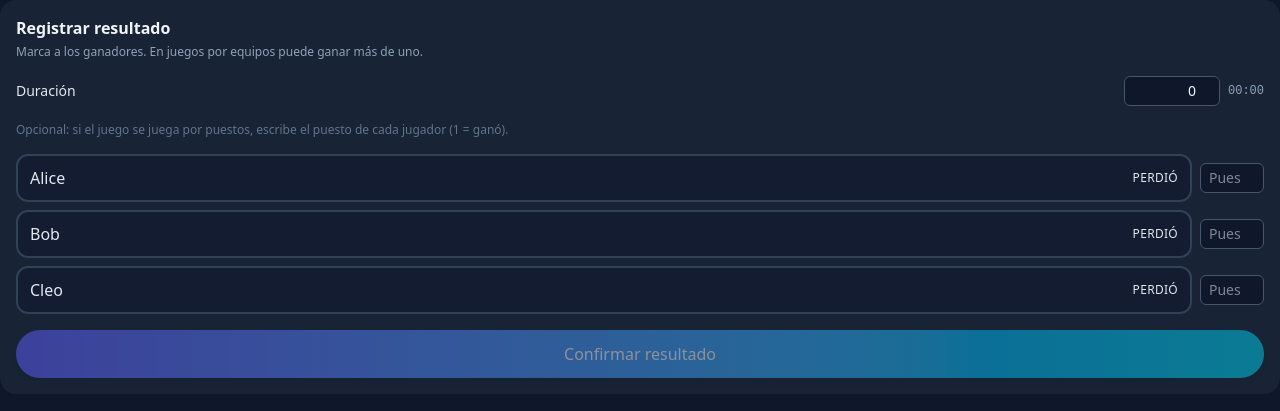
Test: <MatchResultSheet /> › confirm button is disabled until at least one winner is marked
The image size is (1280, 411).
expect the button with test id "confirm" is disabled: met, box [16,330,1264,378]
Click the checkbox with test id "winner-p1" at (48, 178), box [16,154,1192,202]
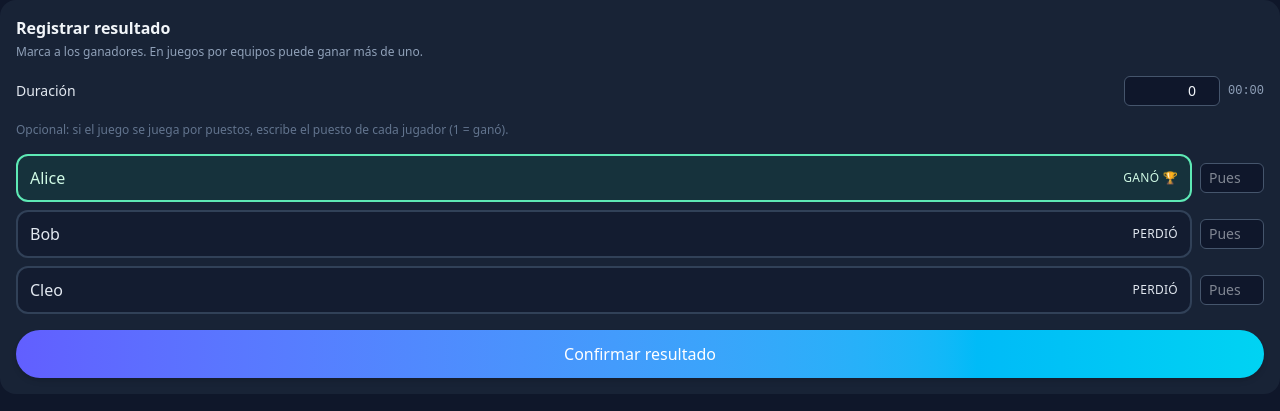
expect the button with test id "confirm" is enabled: met, box [16,330,1264,378]
